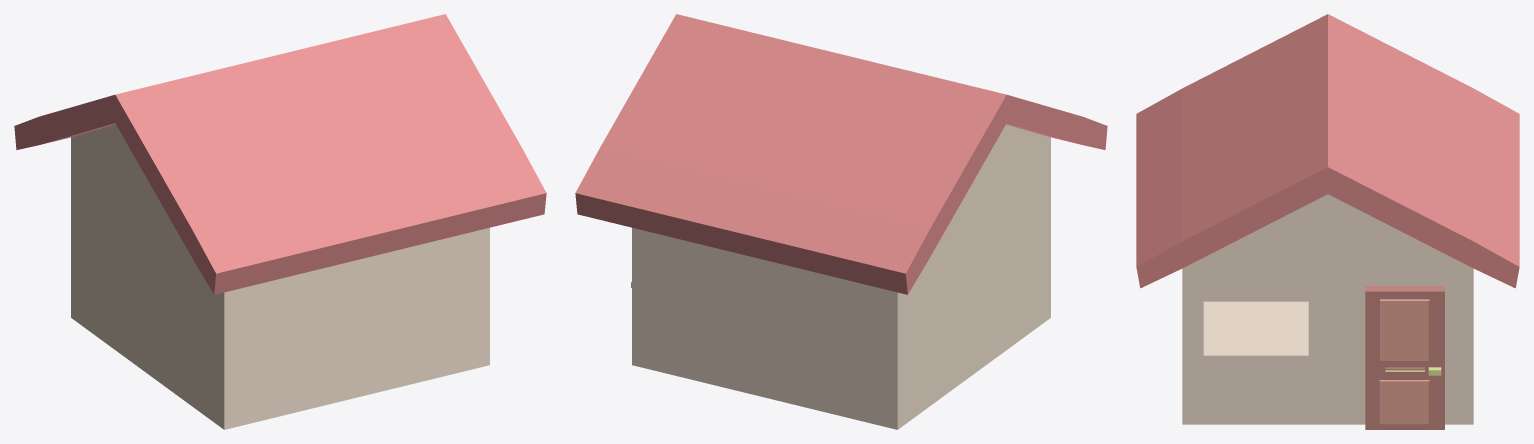
File: House2.fbx
The picture shows the model from 3 angles, left to right: view 1: azimuth 30°, elevation 25°; view 2: azimuth 150°, elevation 25°; view 3: azimuth 270°, elevation 25°; orthographic projection. The views are drawn at different scales.
Parts seen in each view (by area): view 1: House; view 2: House; view 3: House, Door.
Boxes of the visible parts, bbox=[...] form: House: bbox=[14, 14, 546, 429]; House: bbox=[575, 14, 1107, 429]; House: bbox=[1136, 14, 1519, 424]; Door: bbox=[1365, 286, 1444, 429].
Bounding box in the file's own units: 249 × 206 × 263.
